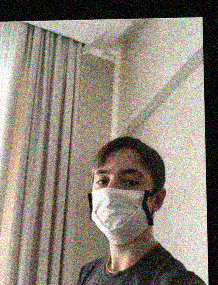with_mask: (86, 162, 152, 245)
